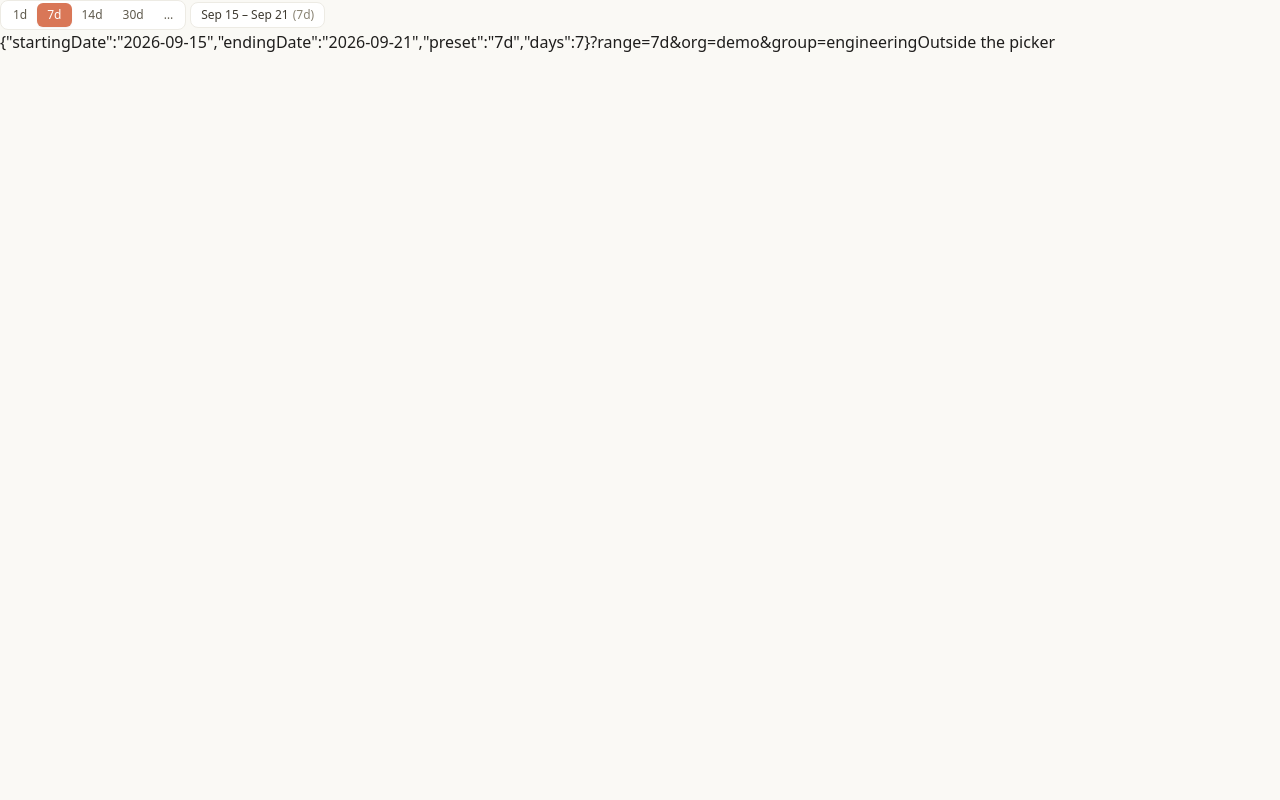
Test: date input validation › enables Apply after correcting an input and commits both dates atomically
This screenshot has width=1280, height=800.
Click the button "…". click: (168, 15)
box: [154,3,183,27]
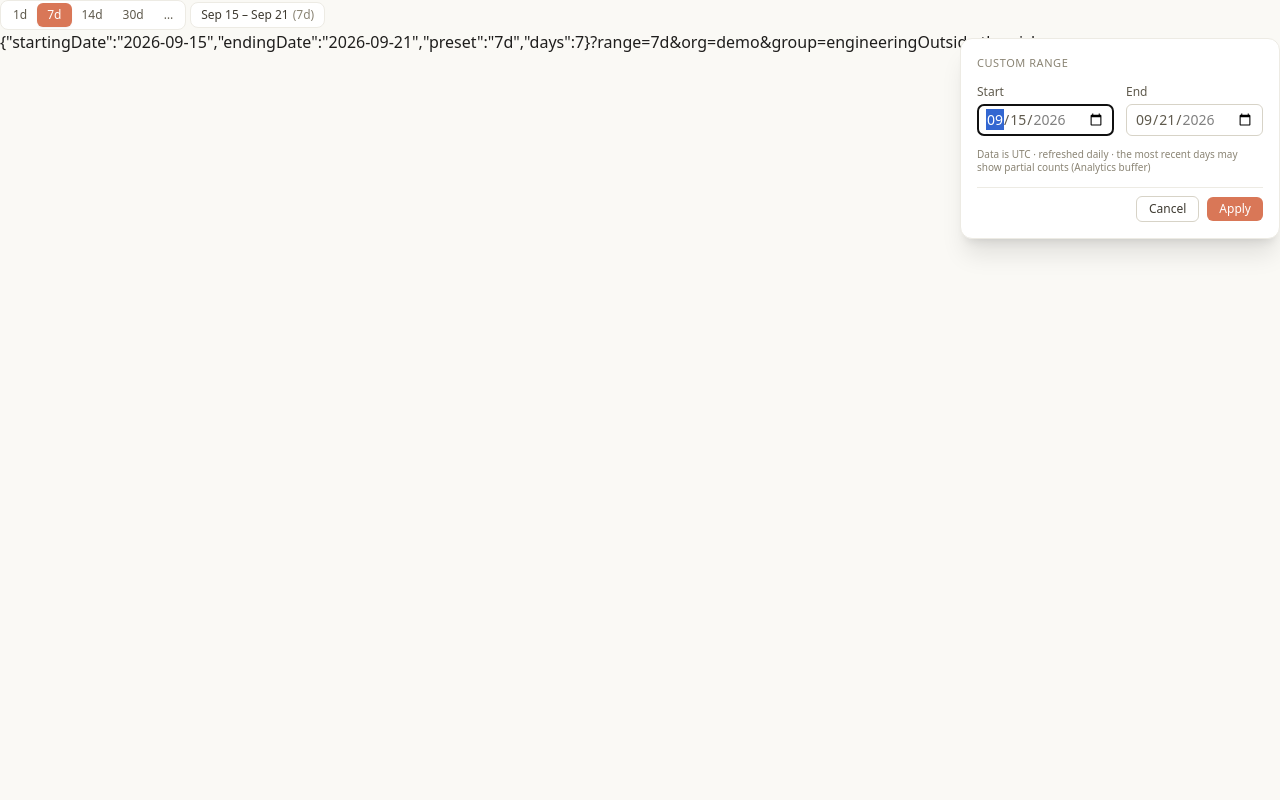
Clear the date field labelled "Start". click: (1046, 120)
box: [977,104,1114,136]
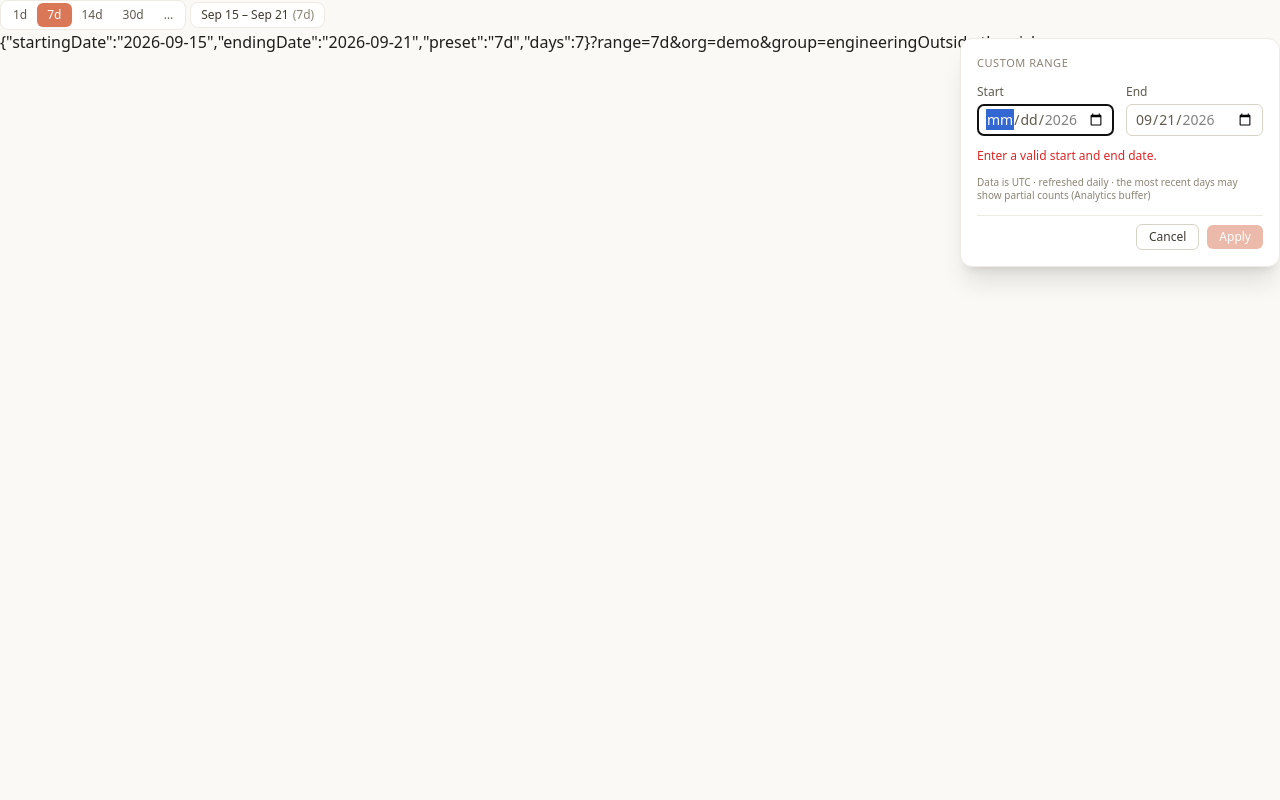
Expected: the button "Apply" is disabled, [1207,225,1263,249]
Type "2026-01-01" into the date field labelled "Start". click: (1046, 120)
box: [977,104,1114,136]
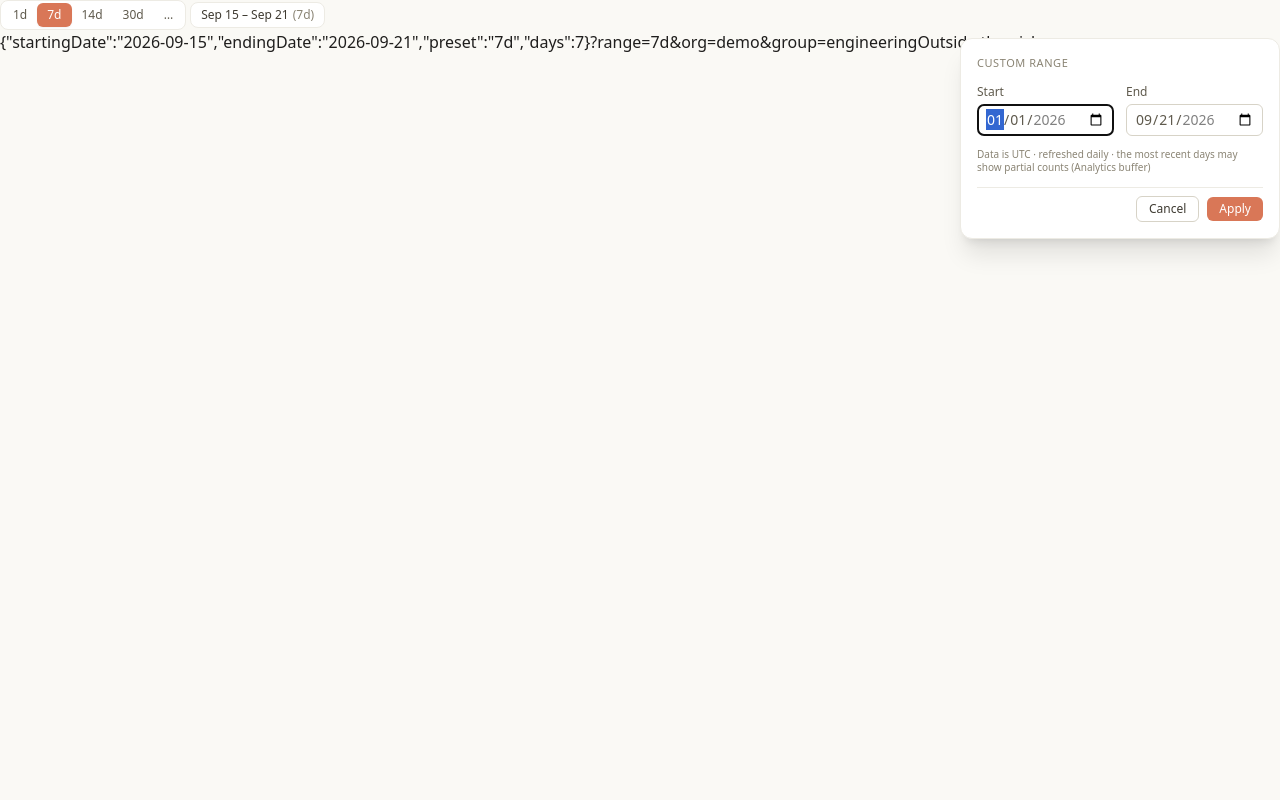
Expected: the button "Apply" is enabled
Expected: the message "Enter a valid start and end date." is gone
Click the button "Apply". click: (1235, 209)
box: [1207,197,1263,221]
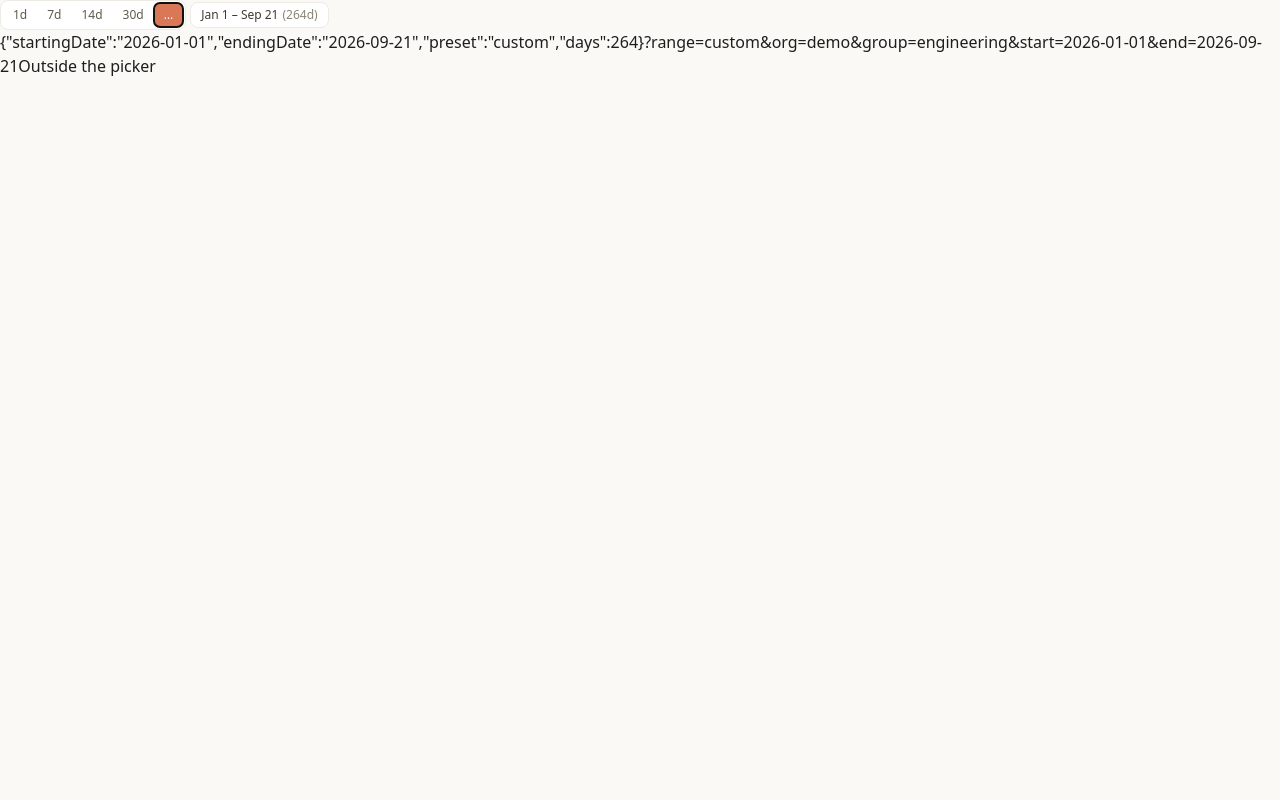
Expected: the dialog is gone
